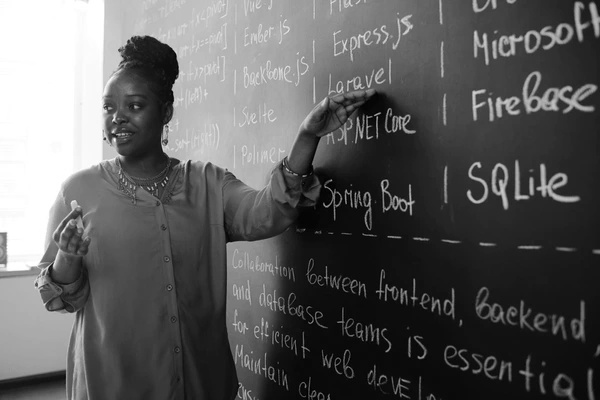pointing_gesture: (302, 87, 379, 138)
